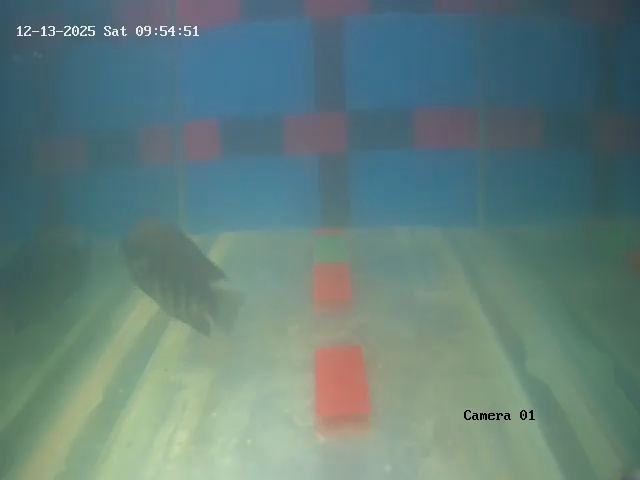fish: (108, 215, 241, 331)
